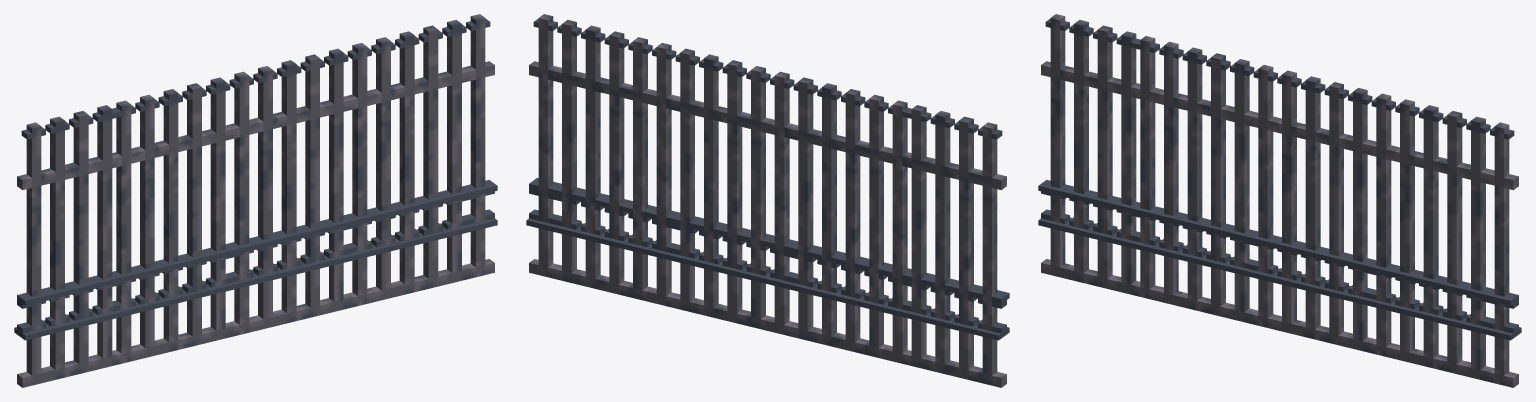
Rendered from FenceModule-9.fbx.
3 renders of one model, left to right at view 1: azimuth 30°, elevation 25°; view 2: azimuth 150°, elevation 25°; view 3: azimuth 330°, elevation 25°, orthographic.
Visible parts, largest first — view 1: FenceModule-9; view 2: FenceModule-9; view 3: FenceModule-9.
Part boxes in pixels (left/top/right/bottom): FenceModule-9: left=14, top=14, right=497, bottom=387; FenceModule-9: left=526, top=14, right=1009, bottom=387; FenceModule-9: left=1038, top=14, right=1521, bottom=387.
Size of the model in its own units: 500 by 260 by 20.
